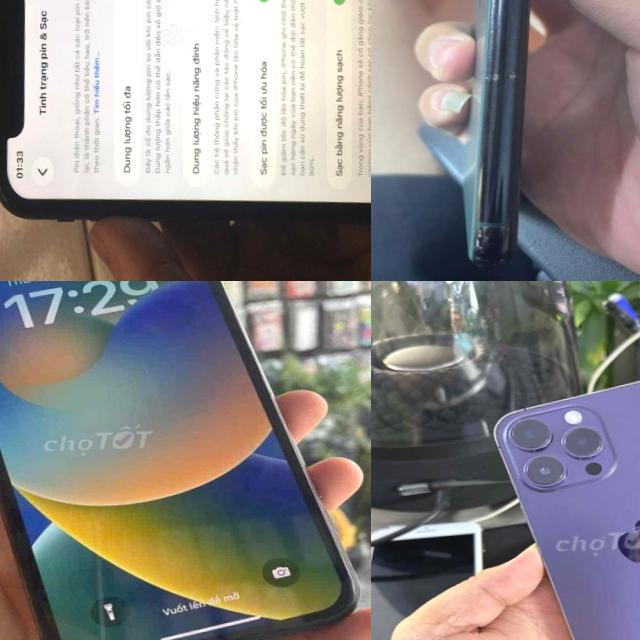gen_11: (0, 0, 371, 281)
gen_14: (487, 369, 640, 640)
gen_x_xs: (0, 281, 369, 640), (441, 0, 570, 267)
